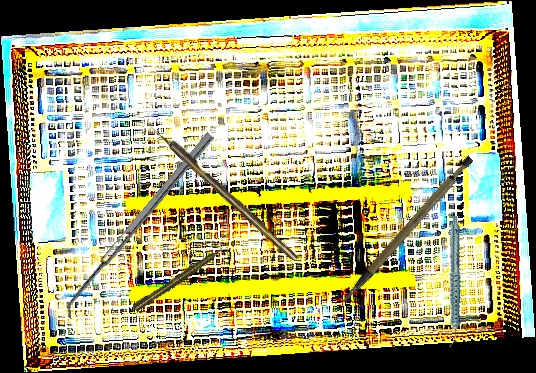Handpiece: (421, 215, 486, 349), (131, 244, 227, 313)
Hook Surgical: (146, 119, 300, 264)
Scalpel Handle: (319, 152, 491, 306)
Spatula Surgical: (58, 132, 222, 321)
